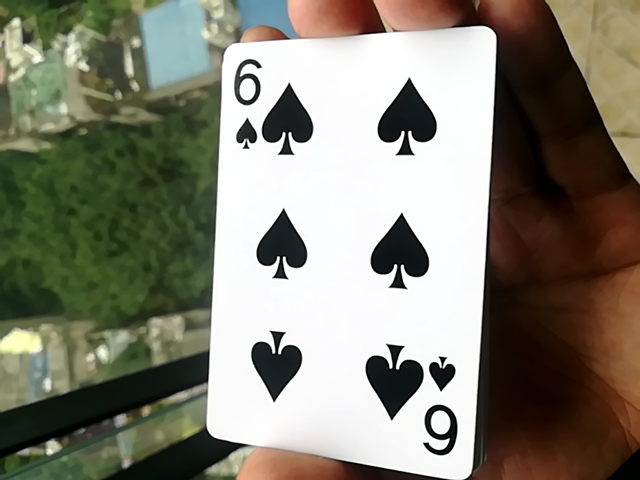ht 6: (204, 22, 485, 479)
